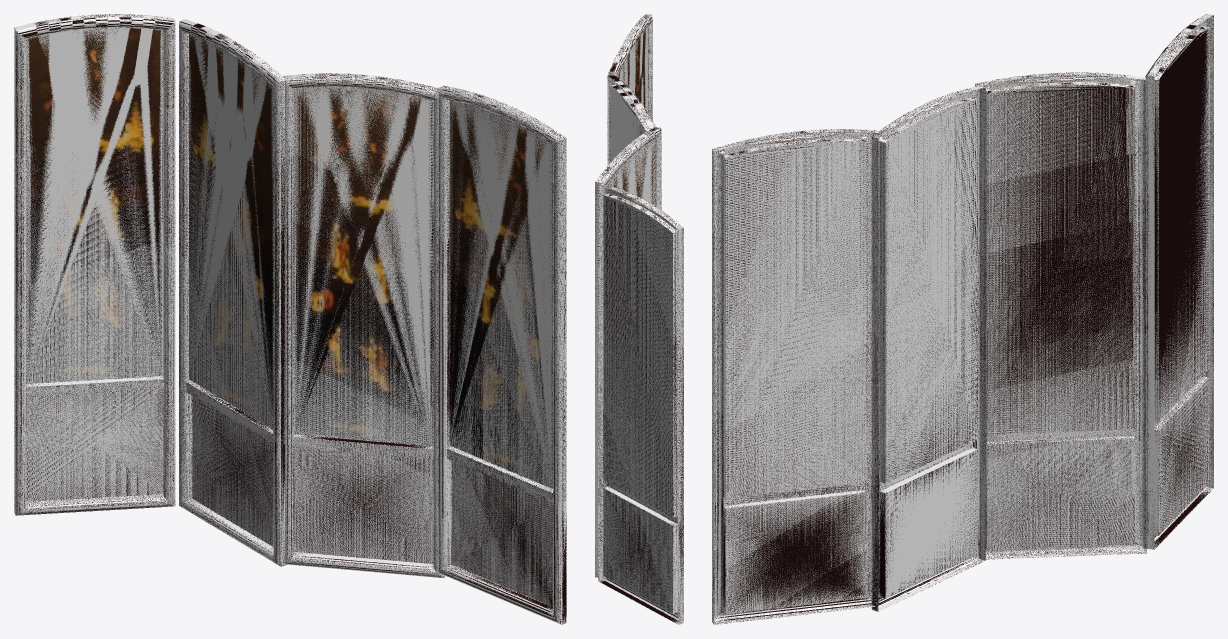
Rendered from prop_japanese_screen.fbx.
3 renders of one model, left to right at view 1: azimuth 30°, elevation 25°; view 2: azimuth 150°, elevation 25°; view 3: azimuth 270°, elevation 25°, orthographic. The views are drawn at different scales.
Visible parts, largest first — view 1: Group2, Group4, Group5, Group3; view 2: Group2, Group3, Group5, Group4; view 3: Group3, Group5, Group4, Group2.
Part boxes in pixels (x1=…): Group2: x1=14, y1=14, x2=175, y2=515; Group4: x1=283, y1=73, x2=444, y2=578; Group5: x1=438, y1=85, x2=566, y2=624; Group3: x1=179, y1=19, x2=286, y2=566; Group2: x1=598, y1=184, x2=683, y2=624; Group3: x1=595, y1=127, x2=661, y2=577; Group5: x1=608, y1=14, x2=652, y2=164; Group4: x1=607, y1=75, x2=655, y2=165; Group3: x1=975, y1=72, x2=1146, y2=559; Group5: x1=712, y1=129, x2=878, y2=624; Group4: x1=871, y1=86, x2=985, y2=611; Group2: x1=1145, y1=14, x2=1213, y2=549.
Bounding box in the file's own units: 1.06 × 1.69 × 1.59.
